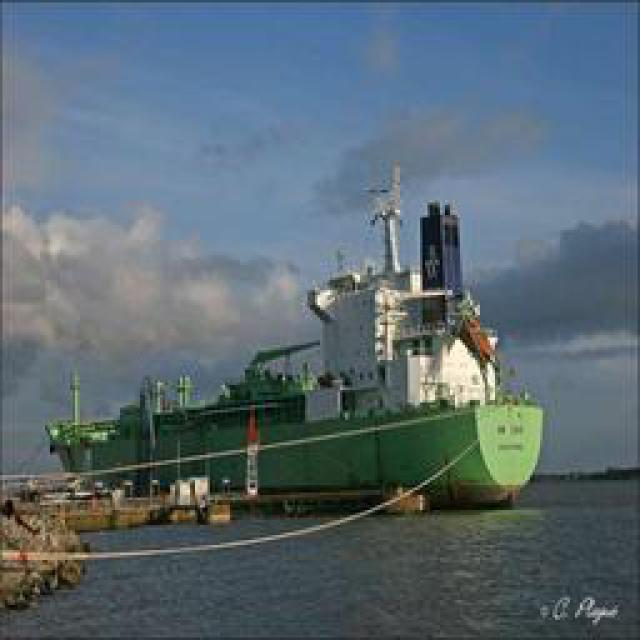Ship: (46, 154, 538, 506)
